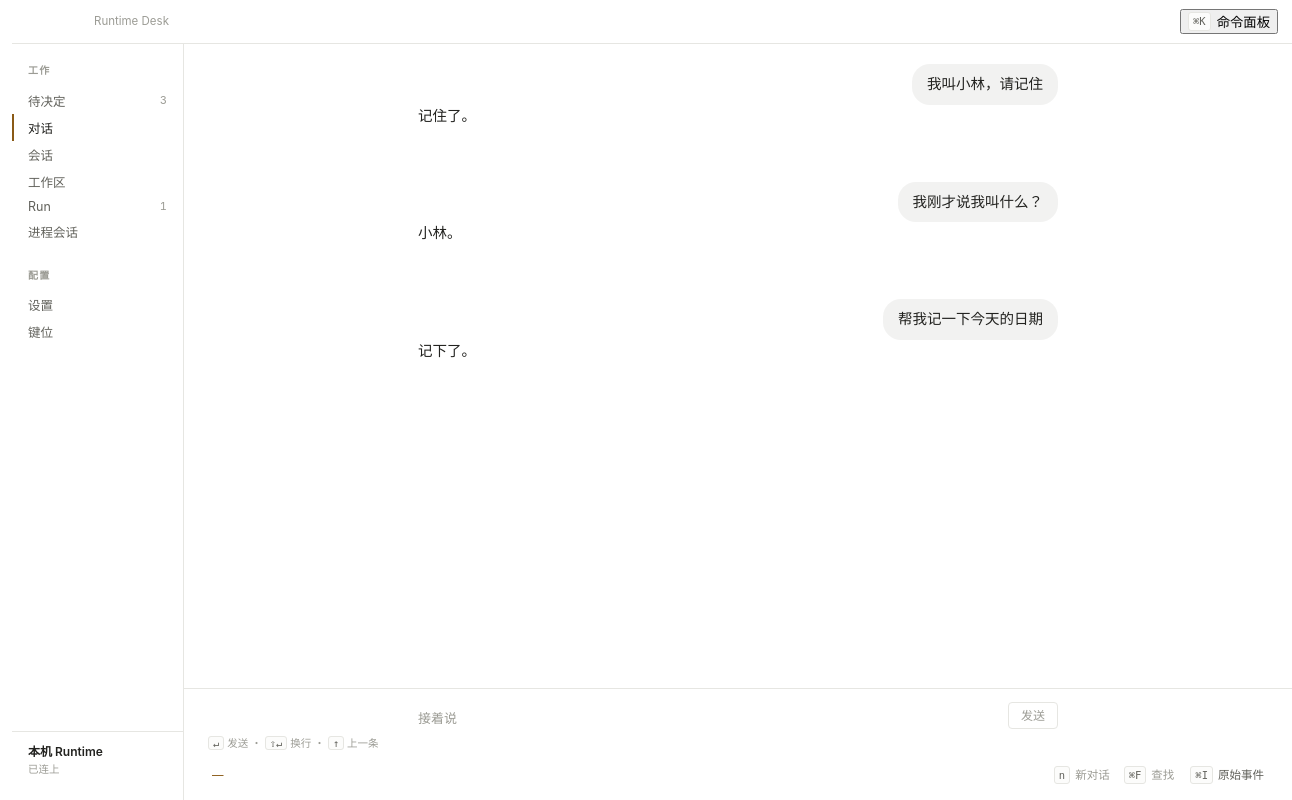
Test: choosing the folder the agent works in › says the choice reaches the next runtime, not the one running
This screenshot has width=1292, height=800.
What coordinates should you click on to do the following:
click the button "工作区"
I would click on:
 (98, 181)
Its box is left=12, top=168, right=183, bottom=194.
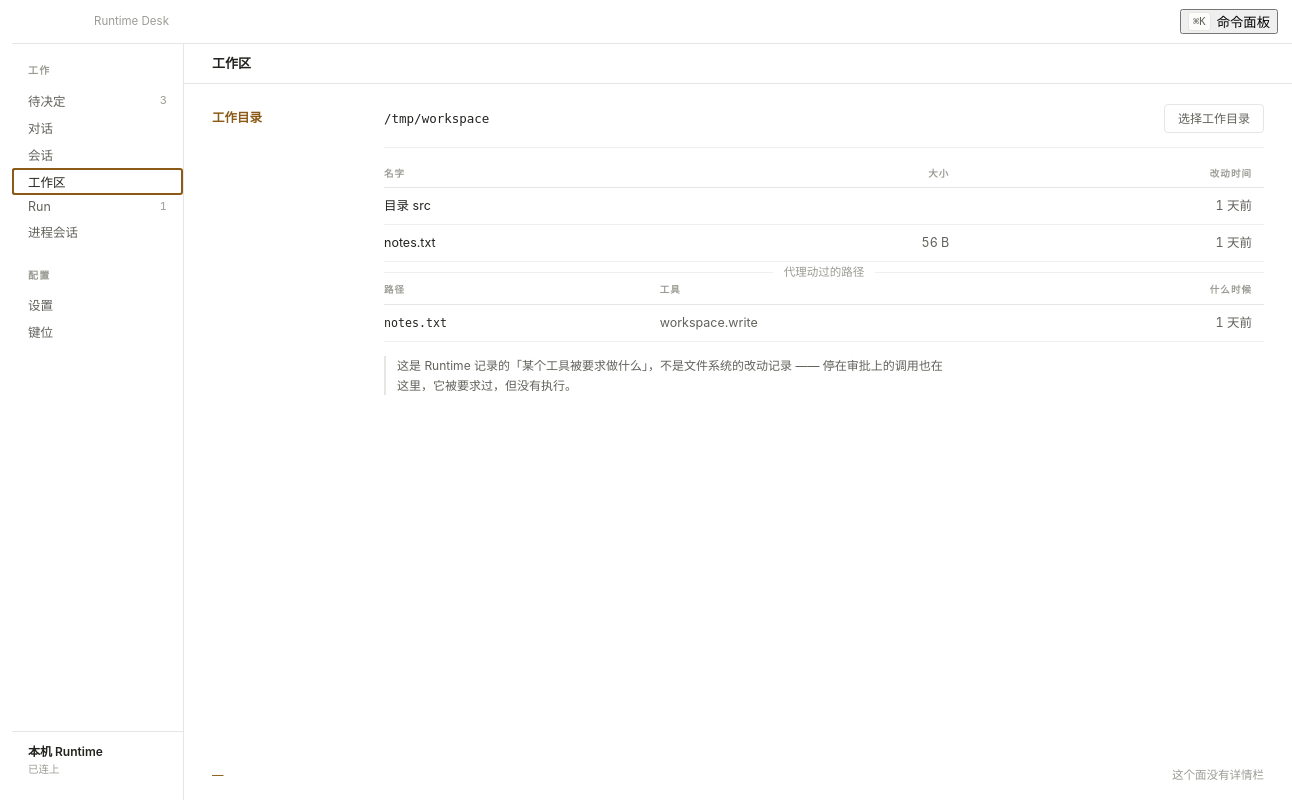
What coordinates should you click on to do the following:
click the button "选择工作目录"
I would click on:
 (1214, 118)
Its box is left=1164, top=104, right=1264, bottom=133.
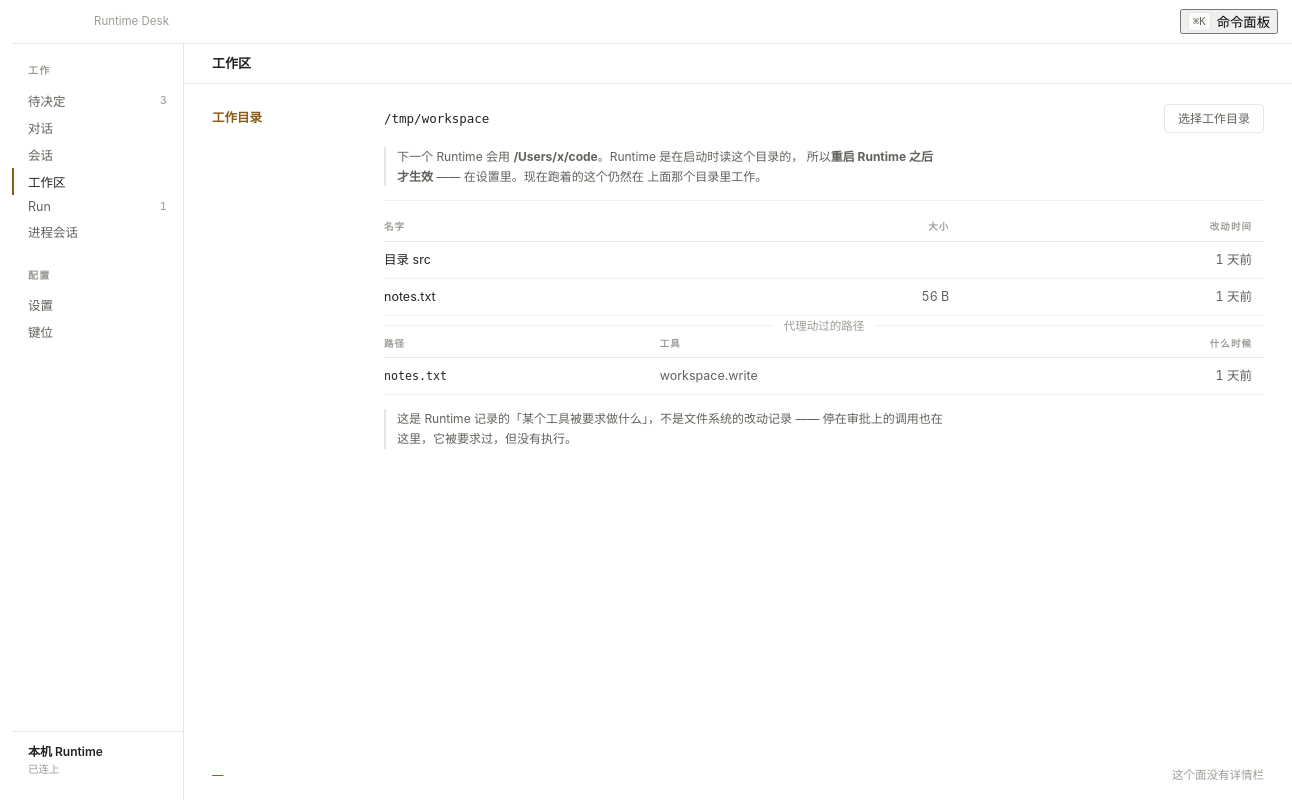
Result: the text "重启 Runtime 之后才生效" is shown at left=397, top=149, right=933, bottom=184
Result: the text "/Users/x/code" is shown at left=513, top=149, right=598, bottom=164
